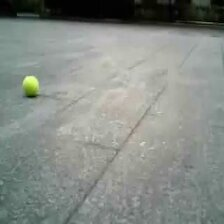tennis: (23, 76, 39, 95)
